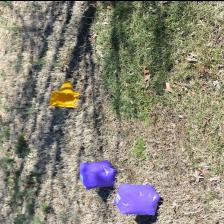cone: (51, 79, 80, 107)
cube: (113, 182, 161, 214), (79, 158, 117, 188)
